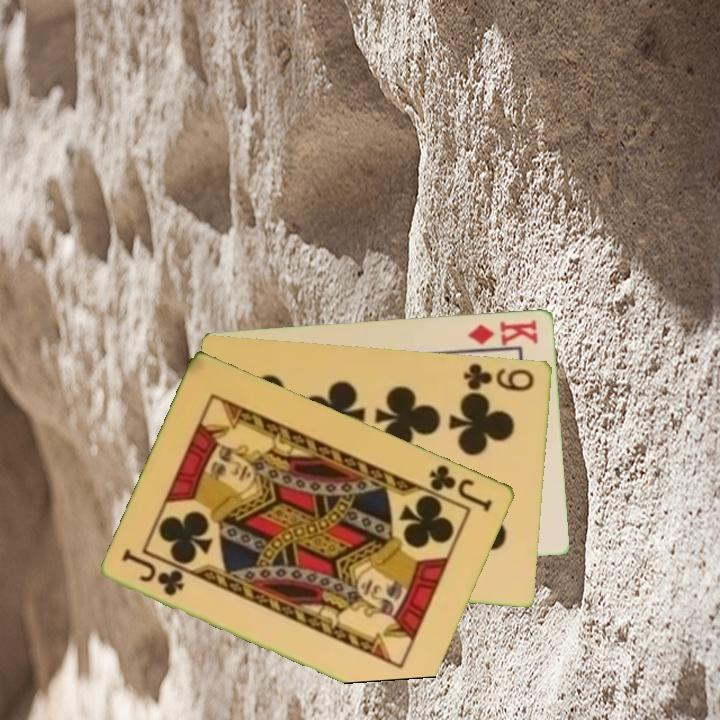9c: (460, 359, 537, 394)
Jc: (426, 461, 496, 514), (118, 546, 188, 599)
Kd: (464, 316, 542, 348)
